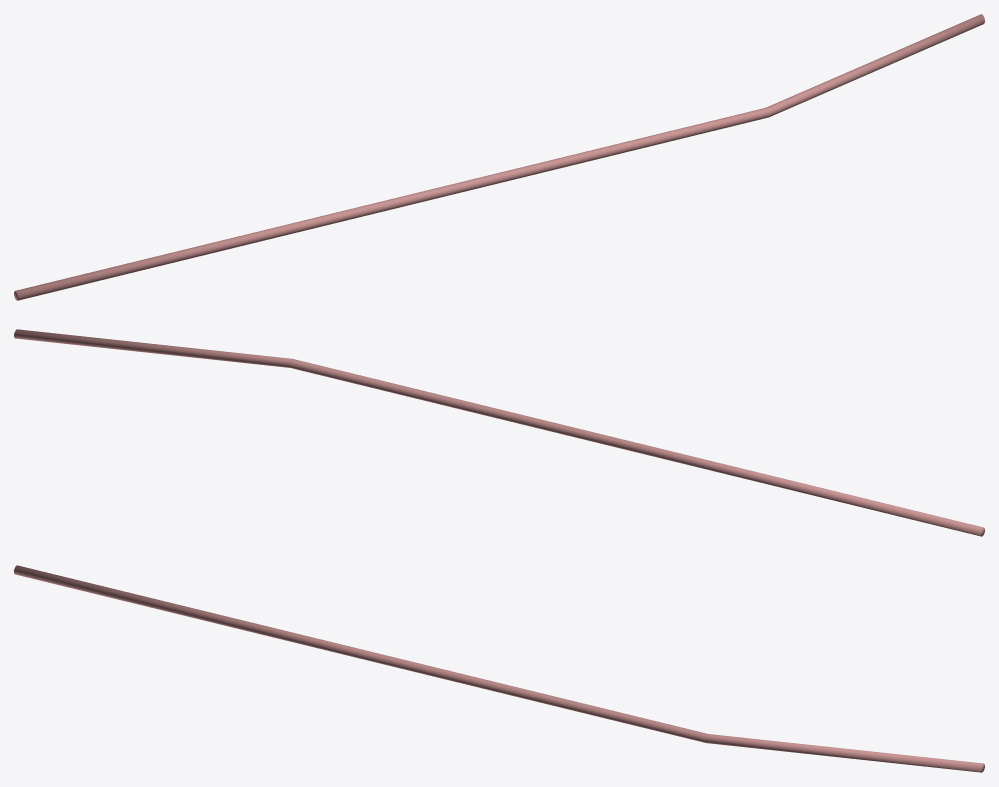
Rendered from Pipe_R.fbx.
The picture shows the model from 3 angles, top to bottom: view 1: azimuth 30°, elevation 25°; view 2: azimuth 150°, elevation 25°; view 3: azimuth 330°, elevation 25°; orthographic projection. The views are drawn at different scales.
Visible parts, largest first — view 1: Pipe_R; view 2: Pipe_R; view 3: Pipe_R.
Part boxes in pixels (<box>): Pipe_R: <box>14,14,984,300</box>; Pipe_R: <box>14,329,984,536</box>; Pipe_R: <box>14,565,984,772</box>.
Bounding box in the file's own units: 2276 × 20.13 × 184.
